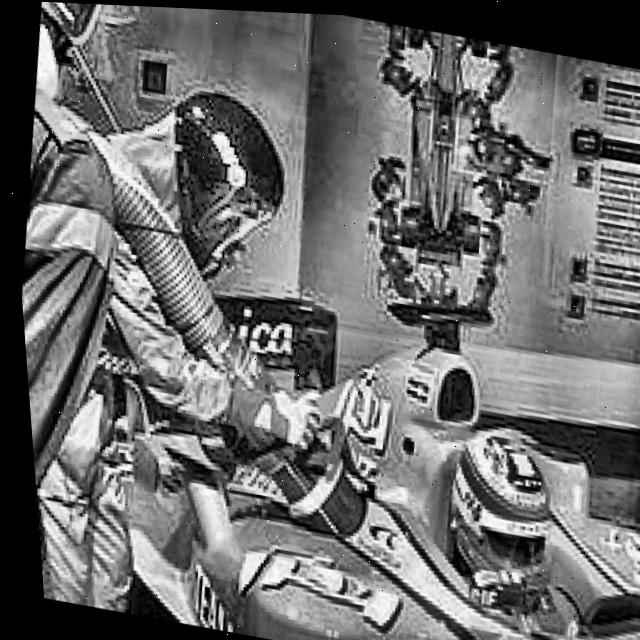light_vehicle: (65, 236, 640, 640)
